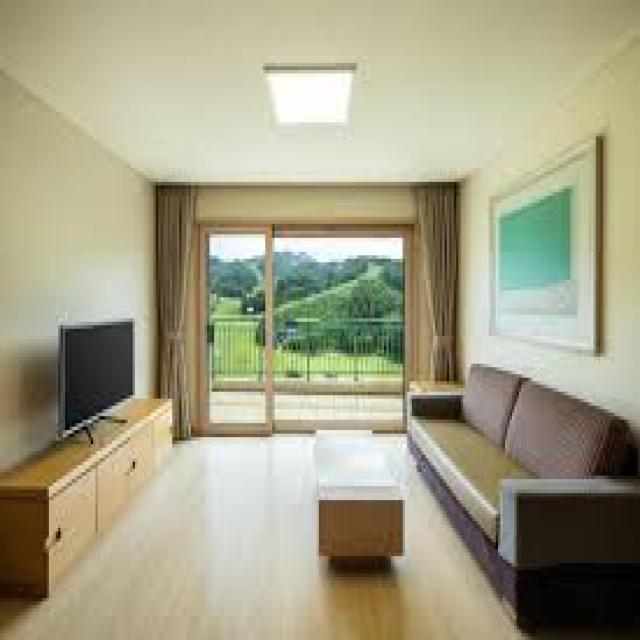Sofa: (418, 360, 640, 640)
Table: (306, 428, 412, 569)
tv: (58, 318, 134, 429)
window: (175, 197, 413, 429)
